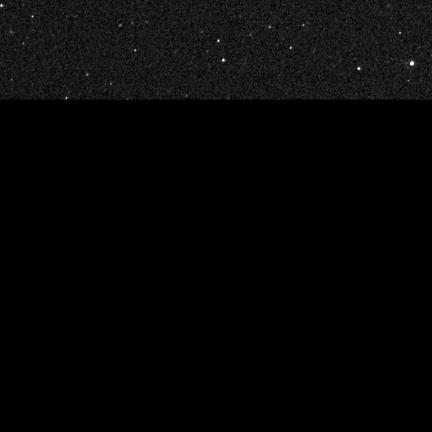blob: (410, 61, 414, 66), (222, 59, 226, 63), (358, 67, 361, 71), (303, 24, 306, 27), (399, 32, 402, 35), (0, 4, 3, 7), (217, 40, 220, 43), (269, 26, 272, 29), (135, 49, 137, 52), (290, 47, 292, 50)
